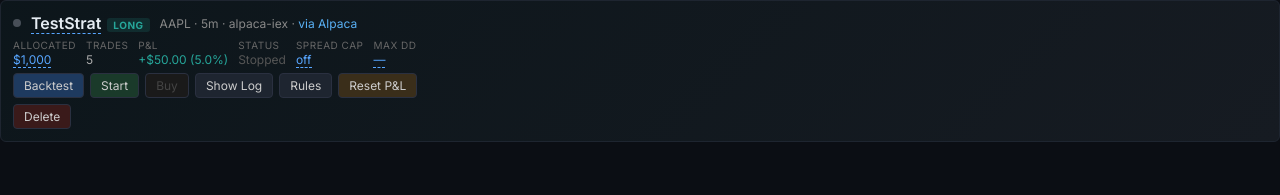
BotCard default layout › shows Allocated input when stopped and value is clicked
Note: Click the Allocated value span
Step 1. Click the text titled "Click to edit" → click(32, 60), box x1=13 y1=52 x2=52 y2=68
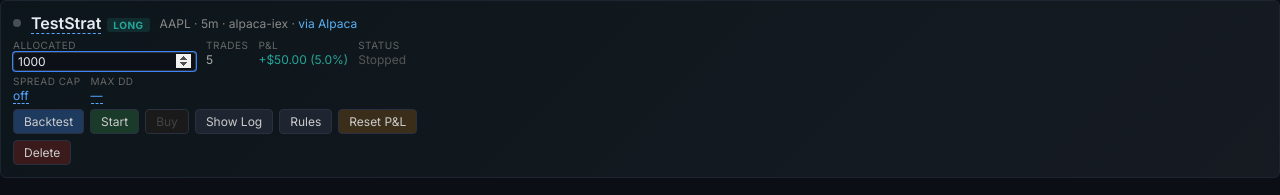
Result: the number field is shown at x1=13 y1=52 x2=196 y2=71
